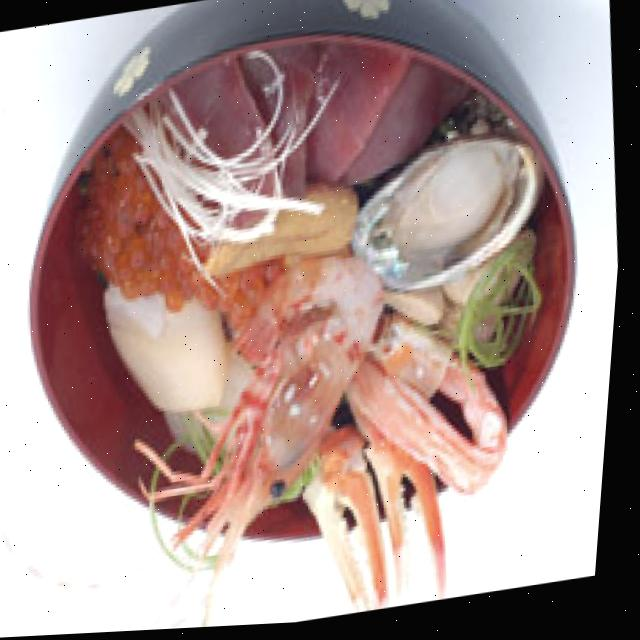刺身生食: (0, 0, 635, 639)
